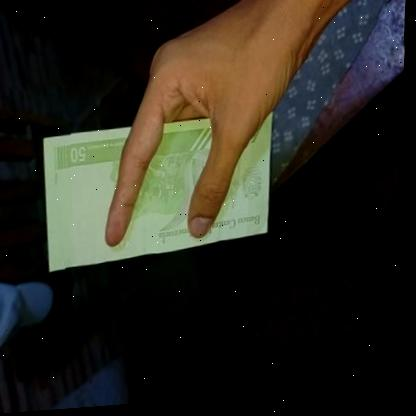fifty-back-vef: (37, 114, 280, 276)
